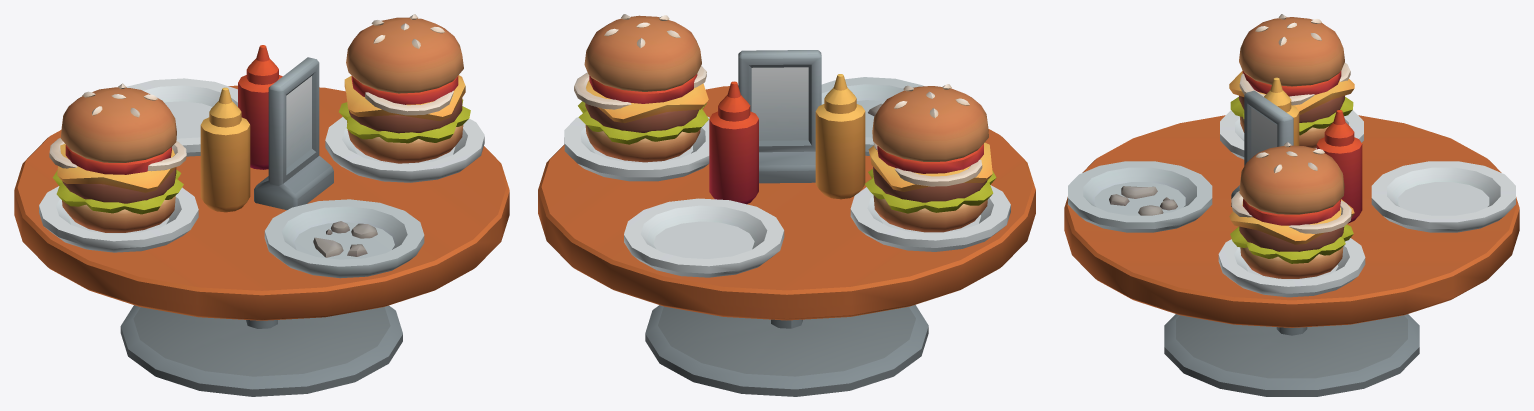
File: cafe-table-001.glb
3 renders of one model, left to right at view 1: azimuth 30°, elevation 25°; view 2: azimuth 150°, elevation 25°; view 3: azimuth 270°, elevation 25°, orthographic. The views are drawn at different scales.
Parts seen in each view (by area): view 1: table_round_A_decorated; view 2: table_round_A_decorated; view 3: table_round_A_decorated.
Boxes of the visible parts, x1,y1,x2,y2 form: table_round_A_decorated: [14, 14, 509, 396]; table_round_A_decorated: [538, 14, 1035, 396]; table_round_A_decorated: [1064, 14, 1519, 396].
Bounding box in the file's own units: 3 × 1.86 × 3.
Materials: 1 (1 with a texture image).
